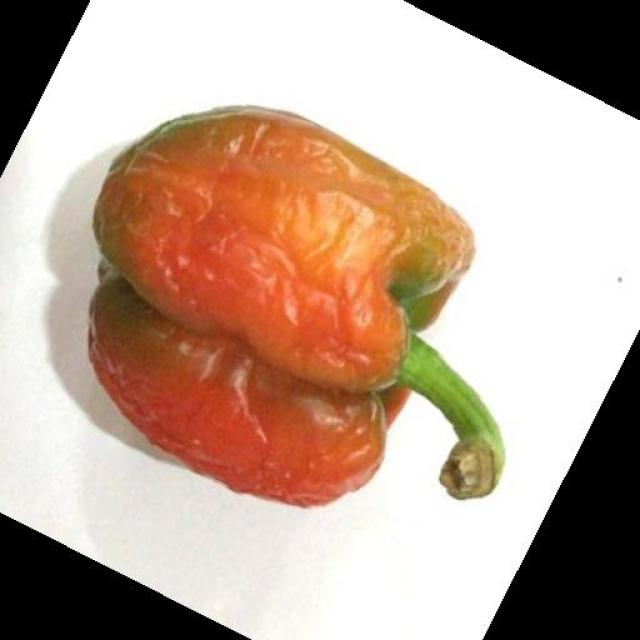Stale_Capsicum: (96, 72, 600, 590)
